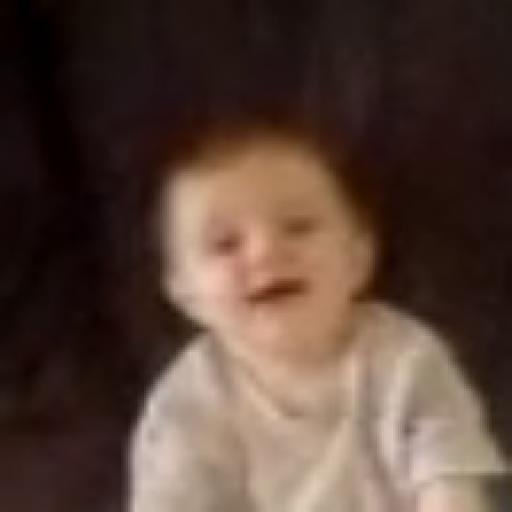Autism: (140, 144, 405, 414)
